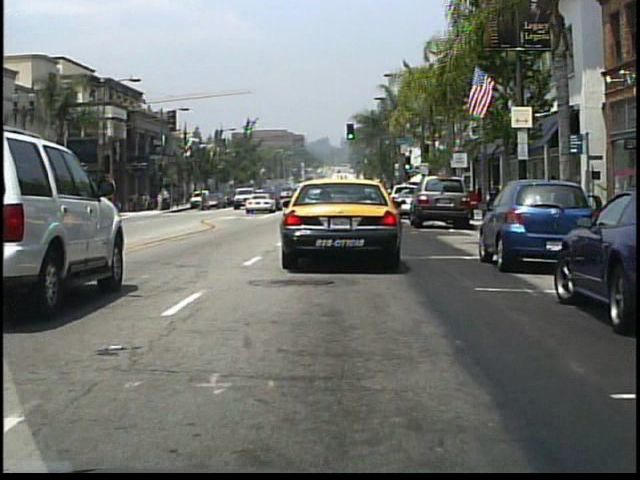person: (198, 188, 208, 213)
